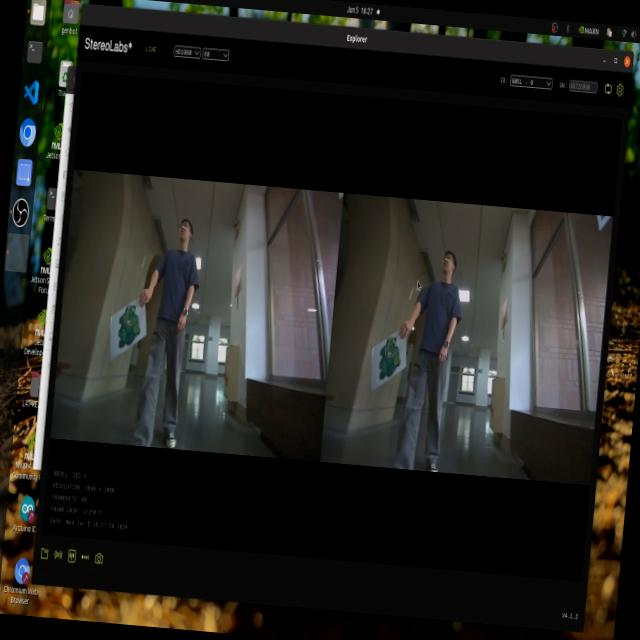green: (376, 330, 405, 379), (114, 307, 148, 345)
